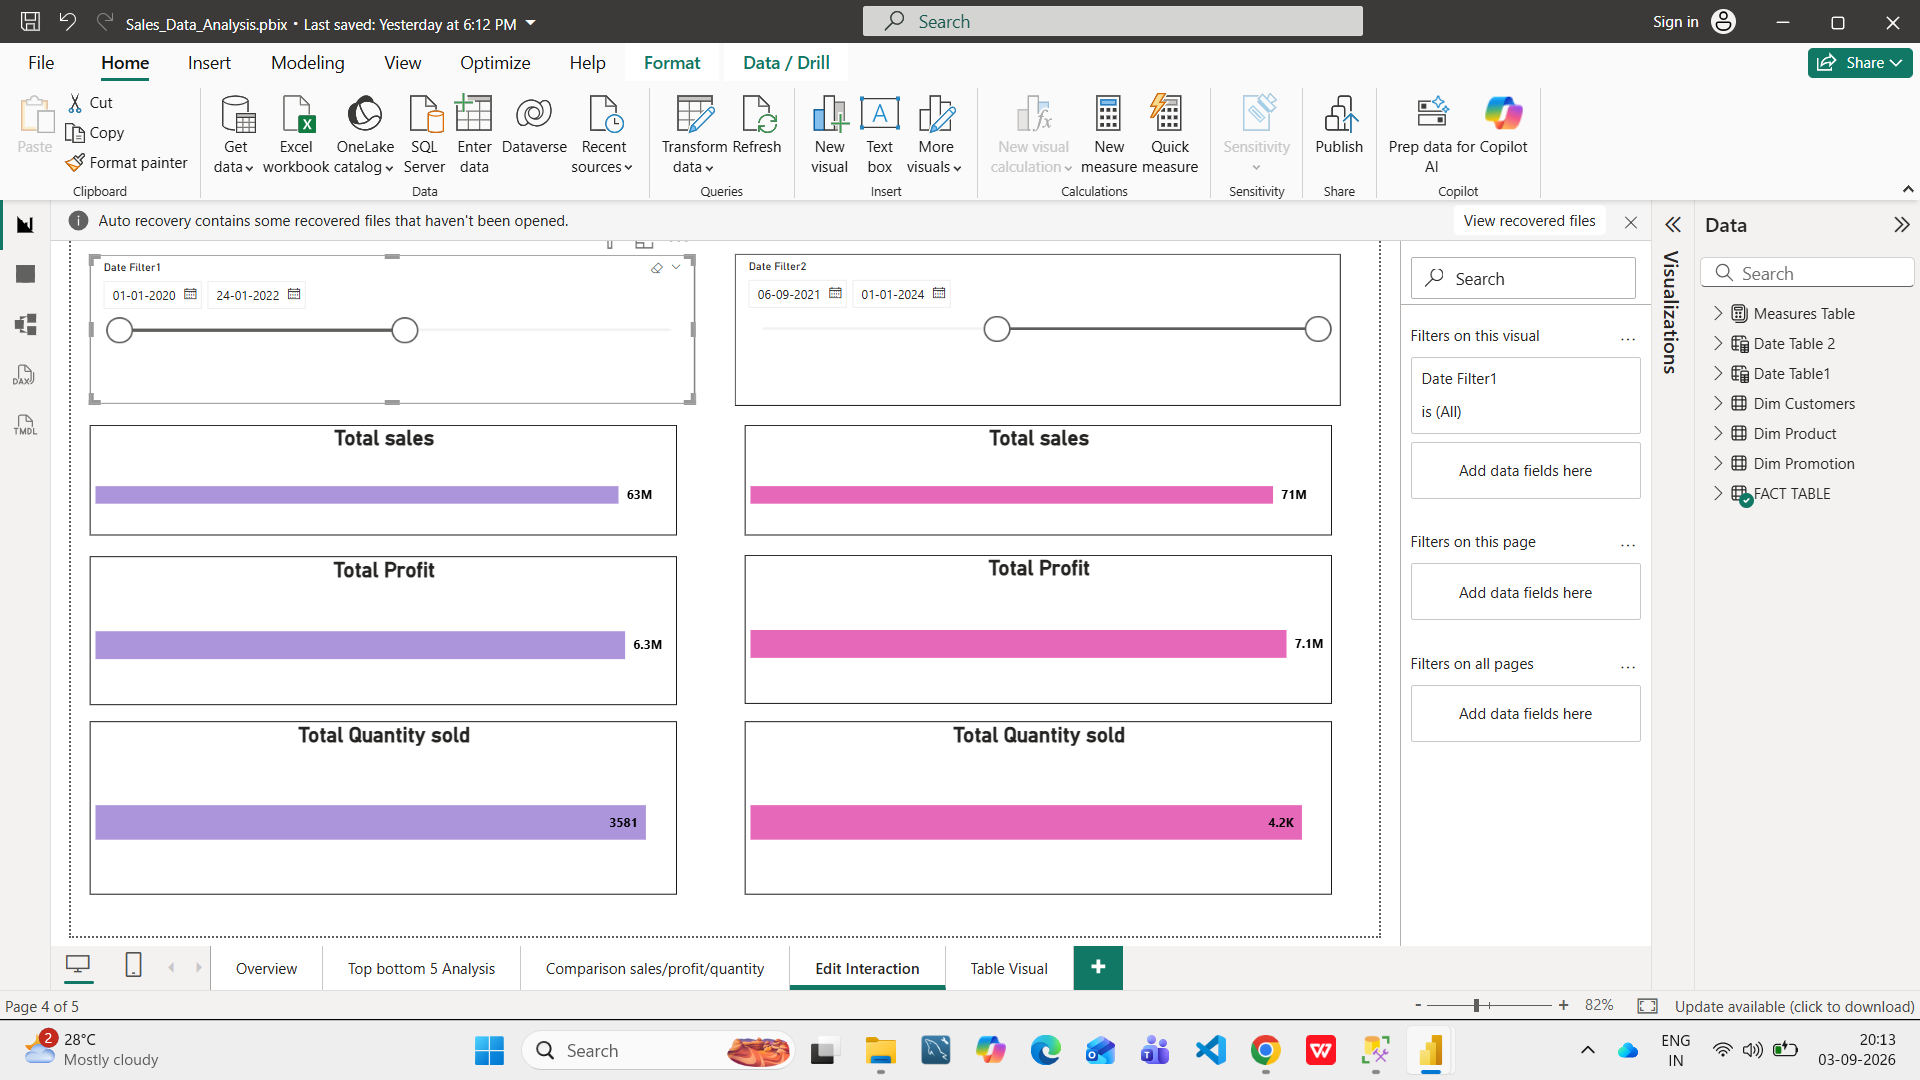

What the dashboard file says about the page in this screenshot:
{"tool":"powerbi","page":{"name":"Edit Interaction","canvas":[1280,720],"ordinal":3},"visuals":[{"type":"slicer","fields":{"Values":["FACT TABLE.Date (dd/mm/yyyy)"]},"box":[18.3,53.8,591.9,145.5],"z":0},{"type":"slicer","fields":{"Values":["FACT TABLE.Date (dd/mm/yyyy)"]},"box":[649.3,52.6,593.1,149.2],"z":1000},{"type":"barChart","title":"Total sales","fields":{"Y":["Sum(FACT TABLE.Net sales)"]},"box":[18.3,220.1,574.7,107.6],"z":2000},{"type":"barChart","title":"Total Profit","fields":{"Y":["Sum(FACT TABLE.Profit column)"]},"box":[18.3,348.5,574.7,145.5],"z":3000},{"type":"barChart","title":"Total Quantity sold","fields":{"Y":["Sum(FACT TABLE.Units Sold)"]},"box":[18.3,509.9,574.7,170],"z":4000},{"type":"barChart","title":"Total sales","fields":{"Y":["Sum(FACT TABLE.Net sales)"]},"box":[659.1,220.1,574.7,107.6],"z":5000},{"type":"barChart","title":"Total Profit","fields":{"Y":["Sum(FACT TABLE.Profit column)"]},"box":[659.1,347.3,574.7,145.5],"z":6000},{"type":"barChart","title":"Total Quantity sold","fields":{"Y":["Sum(FACT TABLE.Units Sold)"]},"box":[659.1,509.9,574.7,170],"z":7000}]}

Visuals, with their boxes on the page's 1280x720 design canvas (x1, y1, x2, y2). These are canvas units, not pixel positions in the 1920x1080 screenshot, which may show the page scaled, cropped or inside an application window:
slicer - FACT TABLE.Date (dd/mm/yyyy): (18, 54, 610, 199)
slicer - FACT TABLE.Date (dd/mm/yyyy): (649, 53, 1242, 202)
"Total sales" barChart: (18, 220, 593, 328)
"Total Profit" barChart: (18, 348, 593, 494)
"Total Quantity sold" barChart: (18, 510, 593, 680)
"Total sales" barChart: (659, 220, 1234, 328)
"Total Profit" barChart: (659, 347, 1234, 493)
"Total Quantity sold" barChart: (659, 510, 1234, 680)
